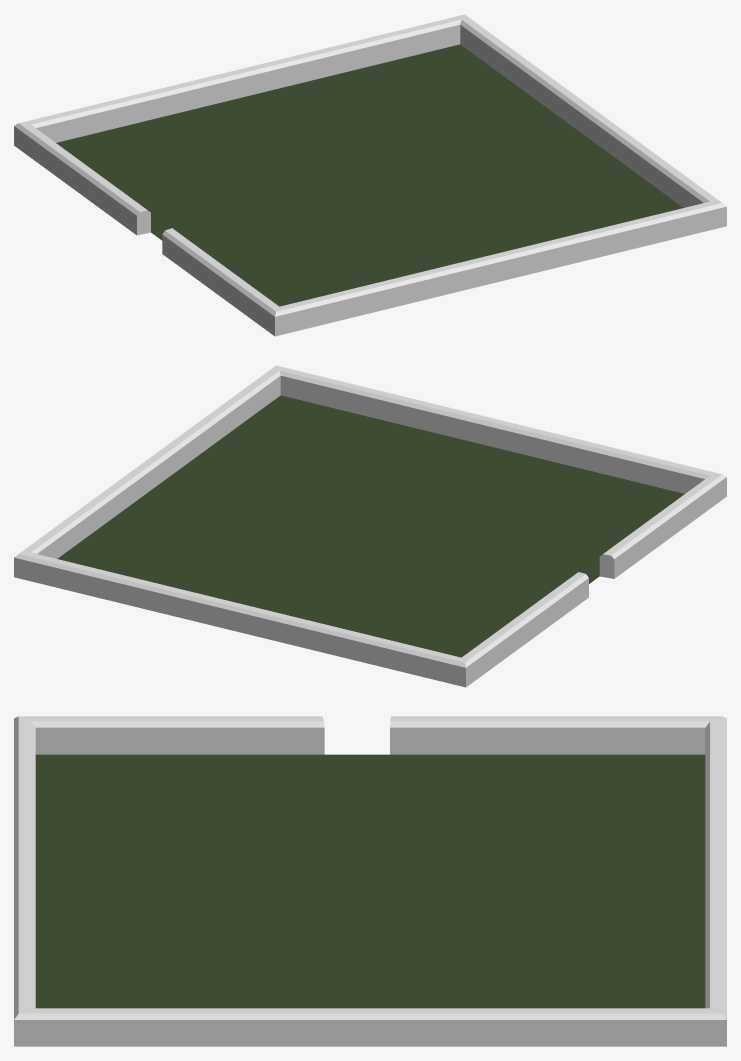
Rendered from SM_Groundplane.001.fbx.
3 views of the same model, one above another, from view 1: azimuth 30°, elevation 25°; view 2: azimuth 150°, elevation 25°; view 3: azimuth 270°, elevation 25° (orthographic). The views are drawn at different scales.
Visible parts, largest first — view 1: SM_Groundplane.001; view 2: SM_Groundplane.001; view 3: SM_Groundplane.001.
Boxes of the visible parts, x1,y1,x2,y2 form: SM_Groundplane.001: [14, 14, 726, 336]; SM_Groundplane.001: [14, 365, 726, 687]; SM_Groundplane.001: [14, 716, 726, 1046].
Size of the model in its own units: 5.83 by 5.83 by 0.2804.
